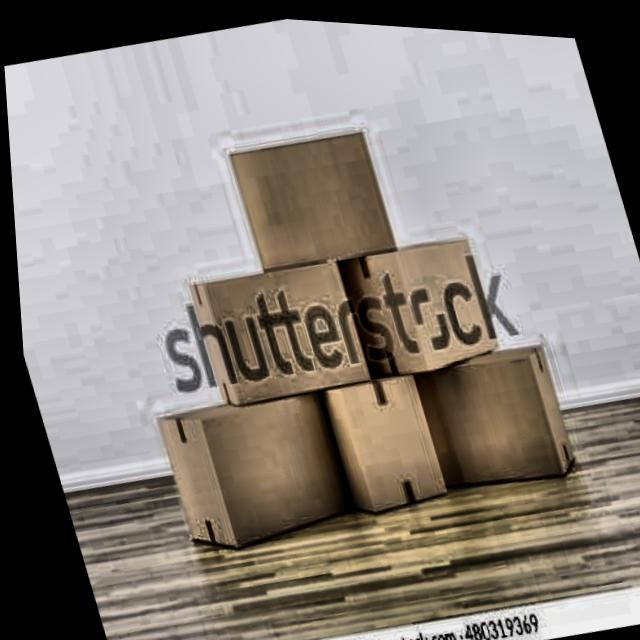Cardbox: (179, 219, 493, 420), (129, 358, 378, 590), (306, 339, 521, 574), (410, 312, 602, 506), (220, 108, 398, 278), (329, 218, 506, 384)
